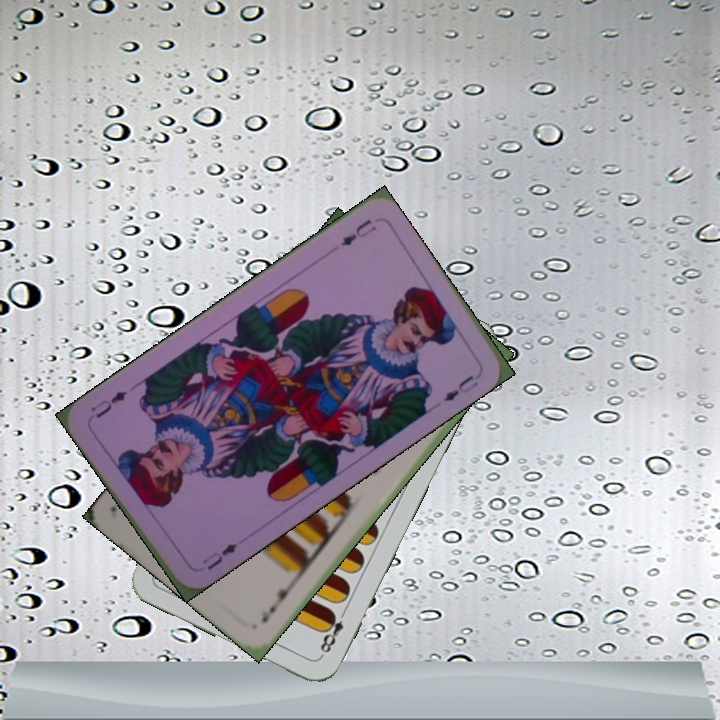E7: (257, 579, 298, 625)
E8: (315, 605, 350, 660)
EU: (336, 214, 379, 249), (198, 539, 240, 573)
